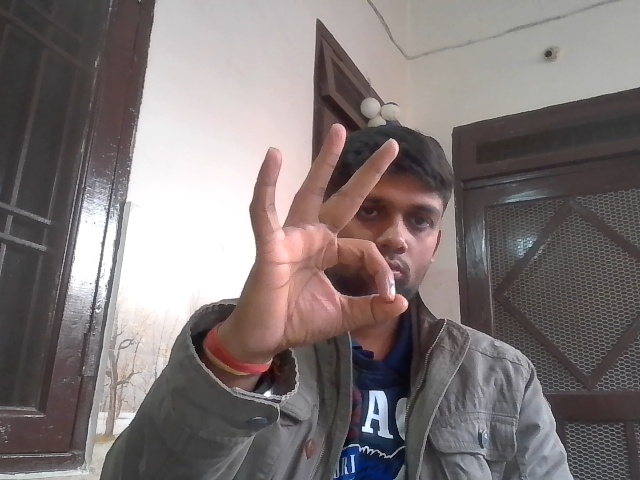Good: (224, 122, 416, 360)
